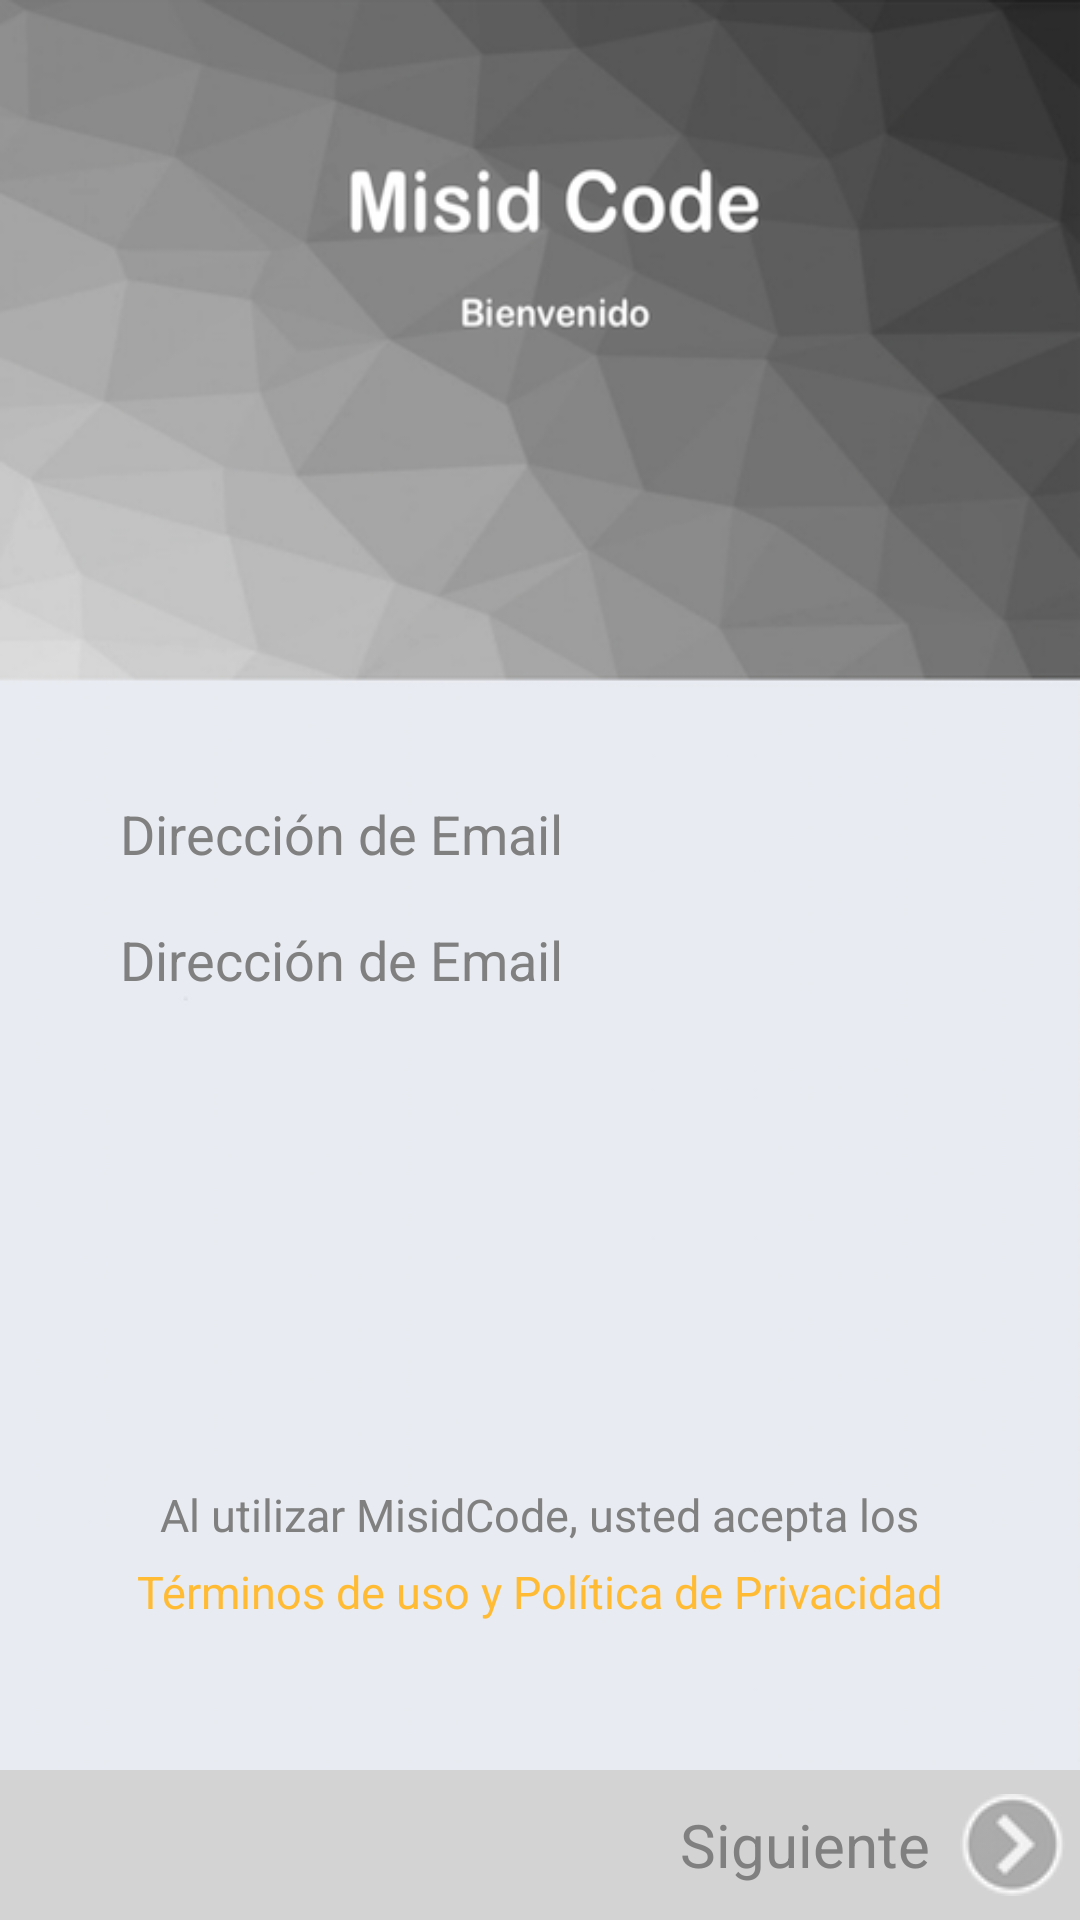

Named icons in this screenshot (1080 x 1920) and their centers, (x=x, y=y):
flech: (x=1012, y=1843)
